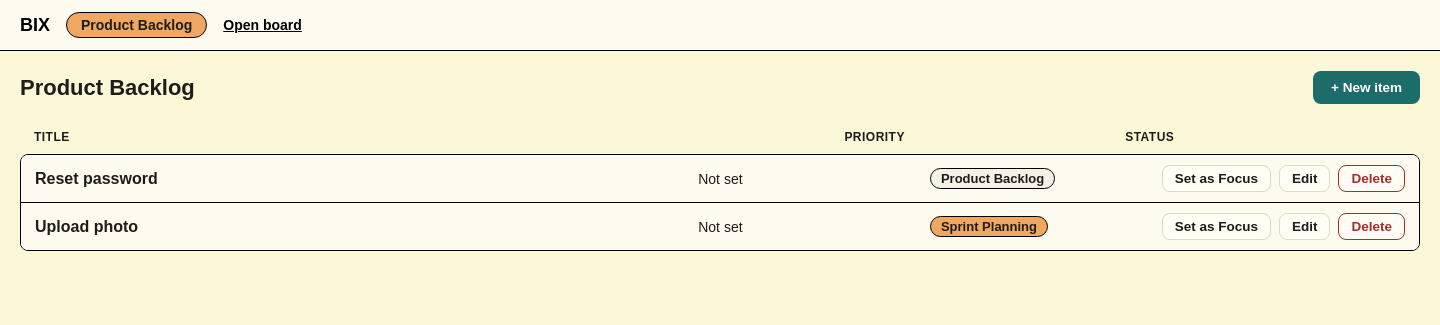
ProductBacklog page - Current Focus (US-07) › shows the server message on the row when setting the focus fails
Click the button with aria-label "Set as Focus: Upload photo" at (1216, 226), box [1162,213,1271,240]
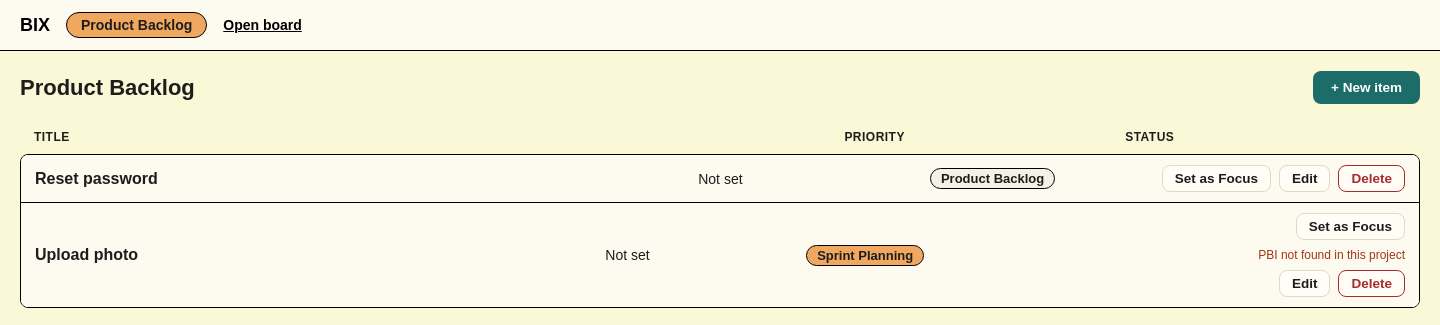
Expected: the message reads "PBI not found in this project", [1258,248,1405,262]
